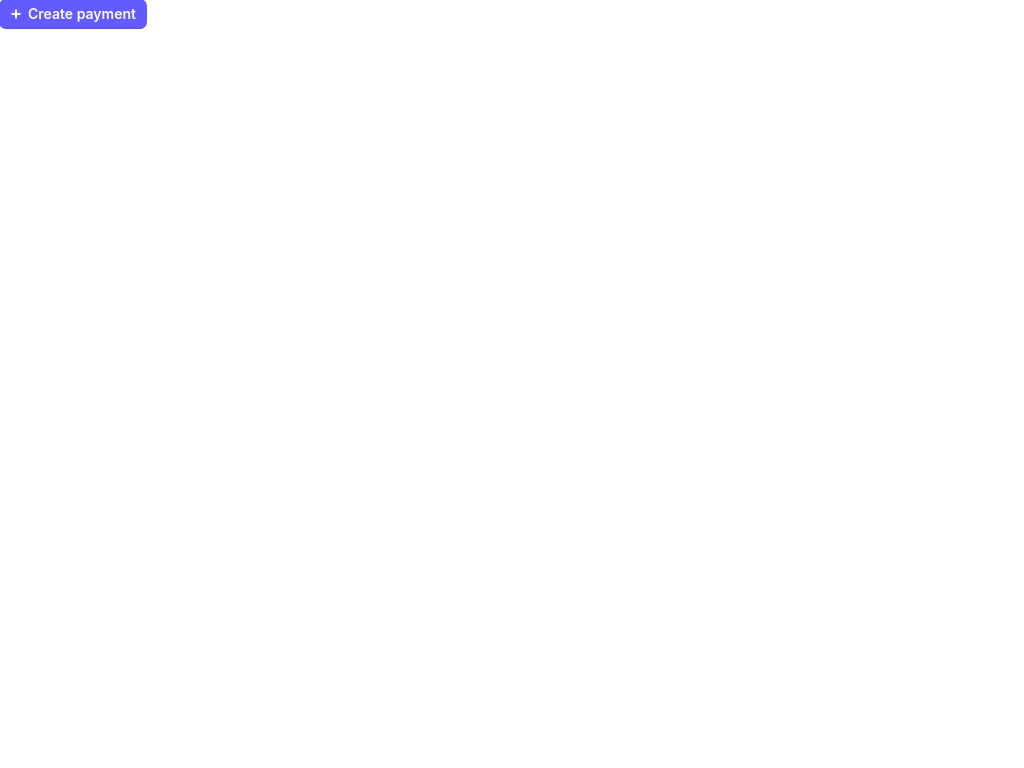
Test case: CreatePaymentButton › does not open the form when the payment limit is reached
Click the button with test id "create-payment": (73,14) [0, 0, 146, 28]
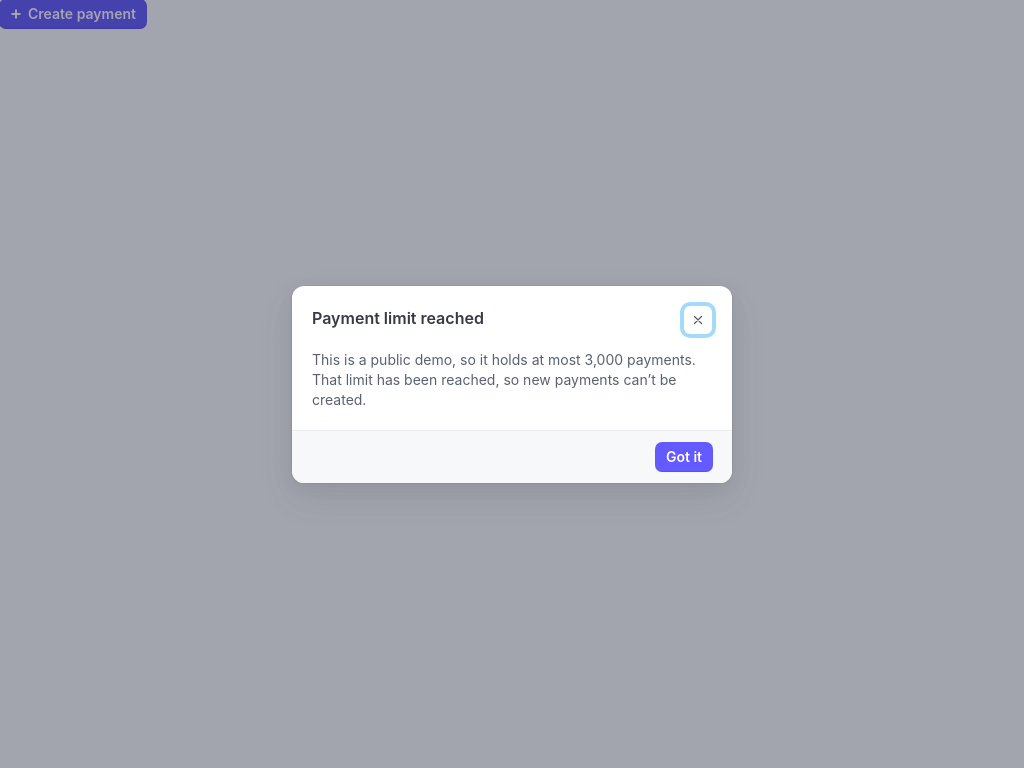
Result: the heading "Payment limit reached" is shown at [312, 306, 484, 330]
Result: the text "holds at most 3,000 payments" is shown at [312, 350, 696, 408]
